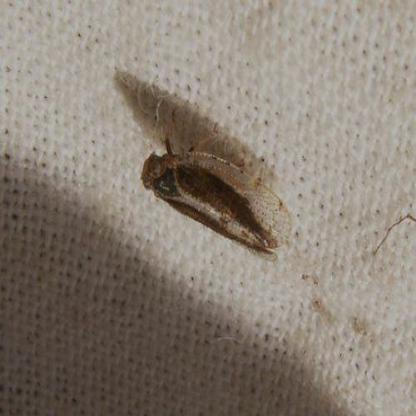brown-planthopper: (136, 138, 286, 262)
